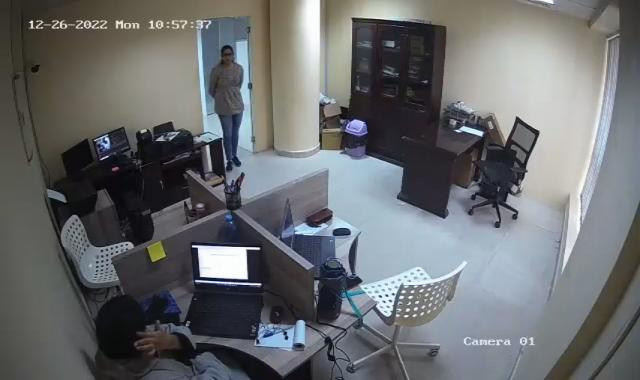no_hairnet: (220, 44, 235, 66)
